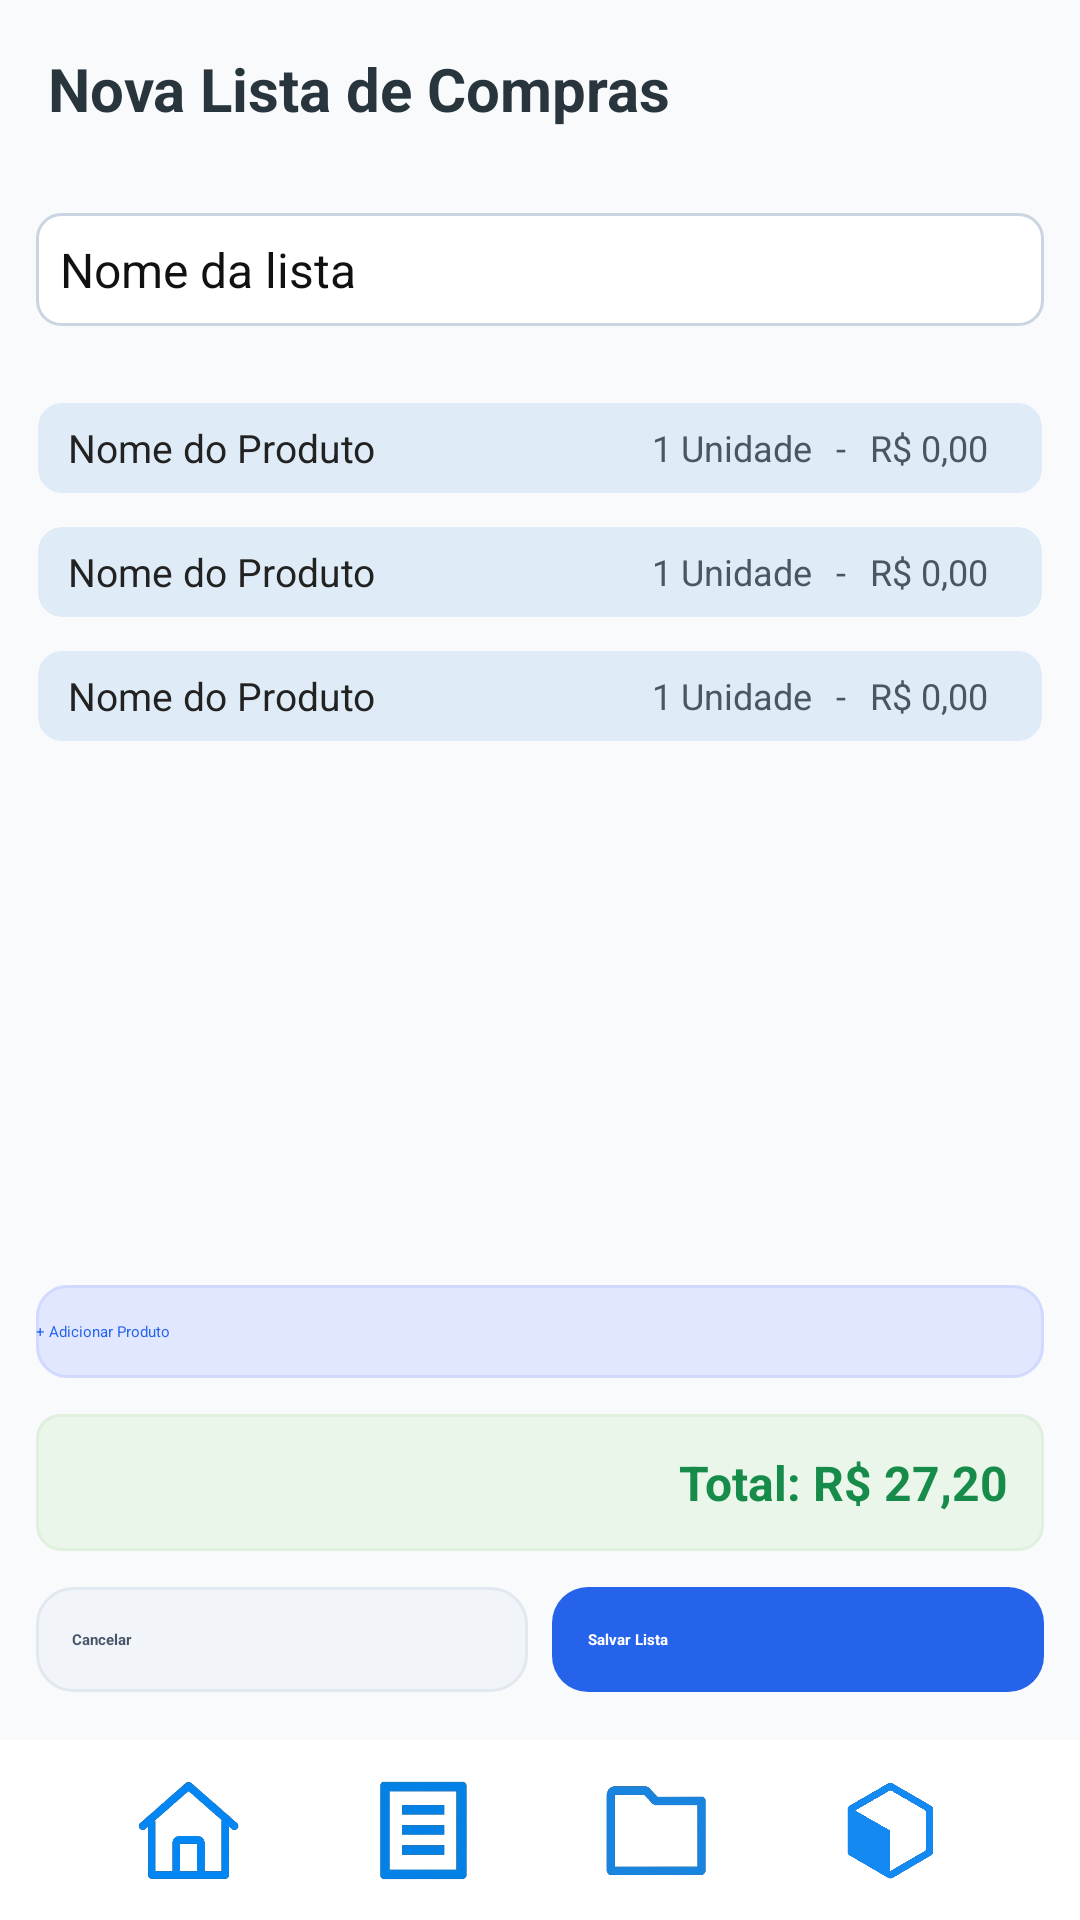

Screen size 1080w x 1920h. Icon name, then its center in pixels as (x,y):
caixa: (890,1831)
home: (189,1830)
pasta: (656,1830)
